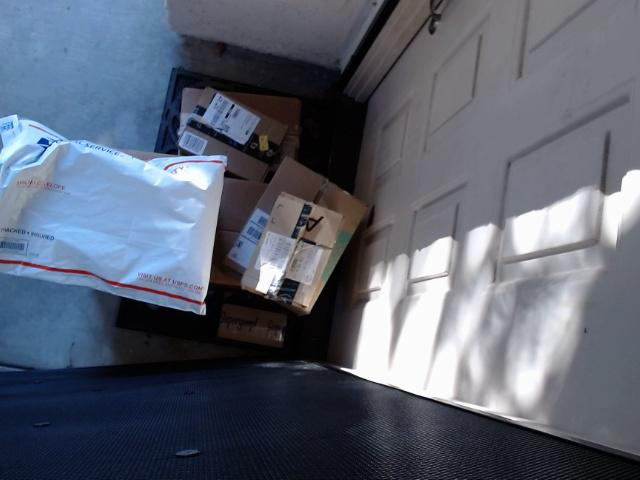box: (225, 145, 371, 327), (168, 68, 336, 171), (215, 290, 310, 361)
plastic_bag: (0, 105, 227, 327)
